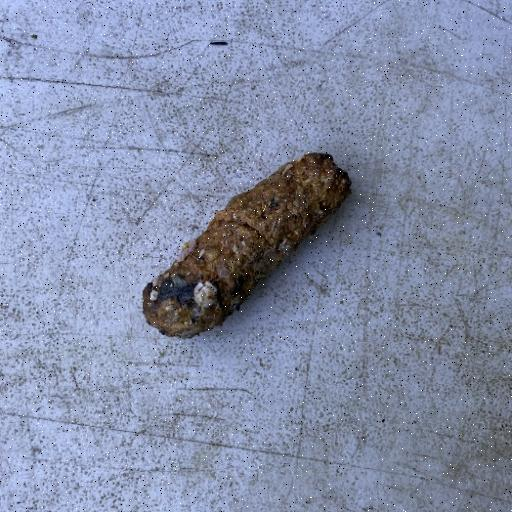Waste: (140, 150, 352, 340)
